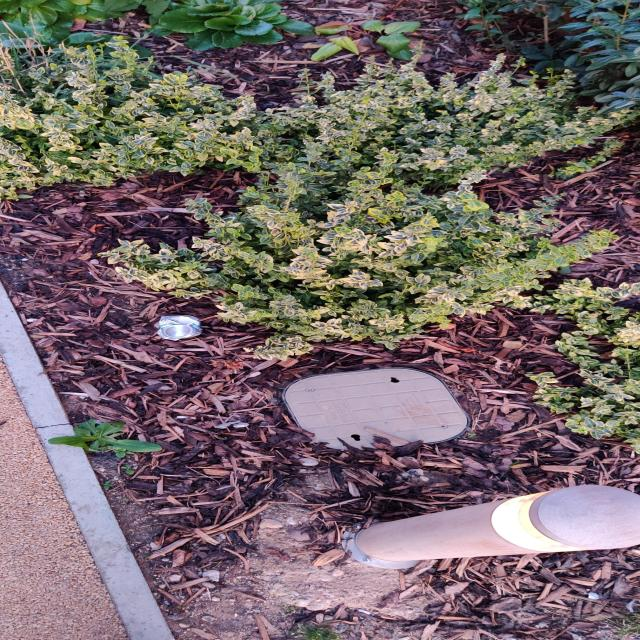litter: (155, 315, 202, 341)
